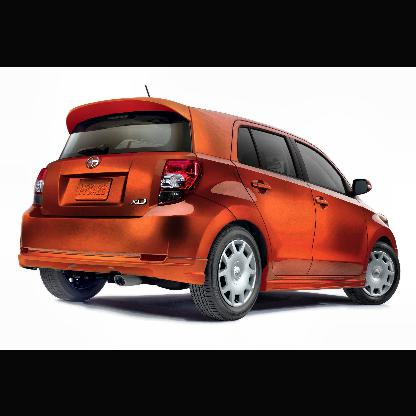Scion xD Hatchback 2012: (17, 82, 401, 323)
